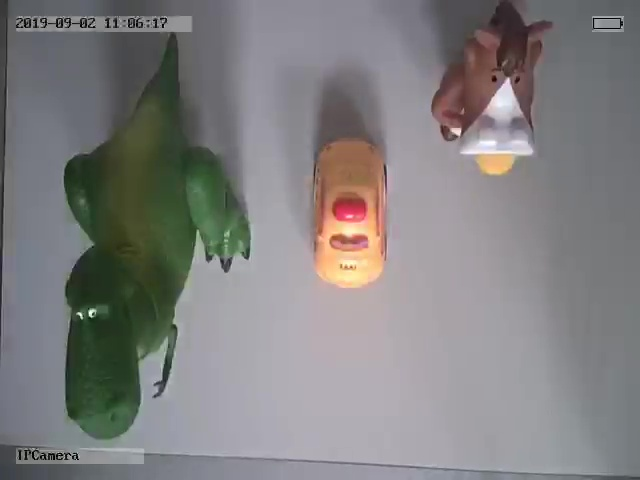car: (309, 134, 389, 288)
horse: (430, 6, 552, 176)
rex: (63, 42, 253, 439)
